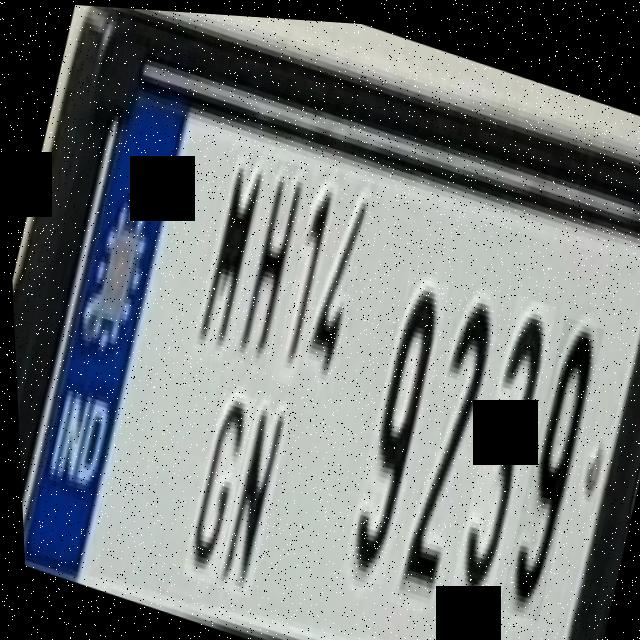1: (261, 172, 344, 386)
3: (432, 284, 564, 608)
4: (288, 168, 383, 387)
9: (325, 261, 459, 585), (483, 304, 612, 618)
G: (169, 383, 259, 585)
H: (222, 153, 315, 368)
M: (180, 142, 274, 361)
N: (204, 400, 292, 597)
